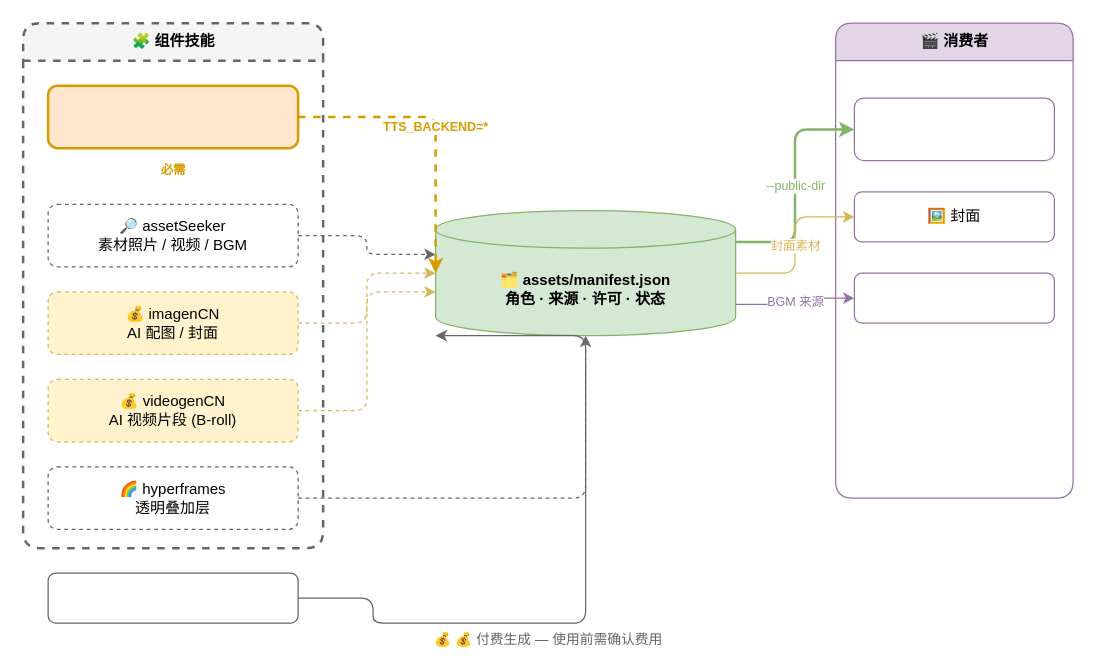
Some shapes in this 1095 by 669 pixel diagram are drawn without their labels. Here are the shapes that lost their labels. From the top down, the centre of each, then its label:
(172,116): 🎙️ ttsCN TTS 引擎，11 个平台
(953,129): ⚛️ Remotion Comp （via --public-dir）
(953,297): 🎵 BGM 混音
(172,597): 📁 用户文件
